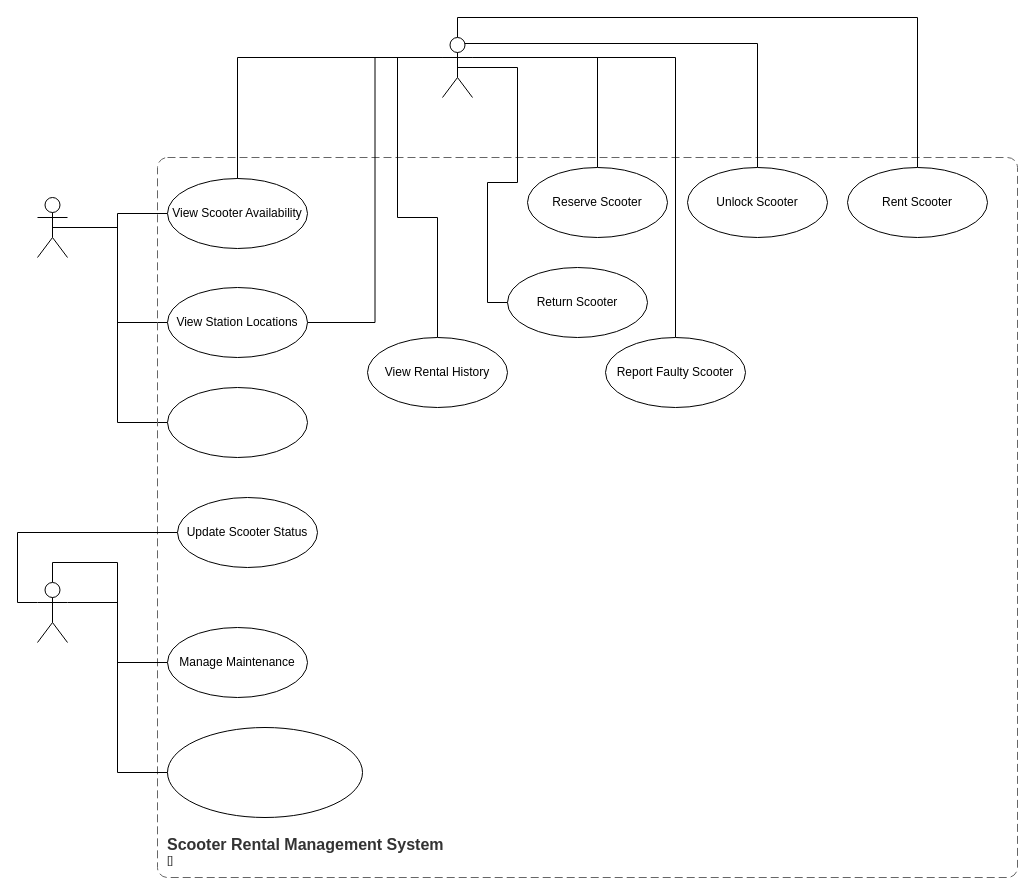
The diagram is 1035 pixels wide and 895 high, and some of its shapes have lost their labels. Here are the shapes that lost their labels. From the top down, the box of each, then its label:
(442, 36, 472, 98): Registered Member
(36, 196, 68, 258): Guest
(166, 386, 308, 458): Register Account
(36, 582, 68, 642): Admin
(166, 726, 362, 818): Manage Station Scooters
